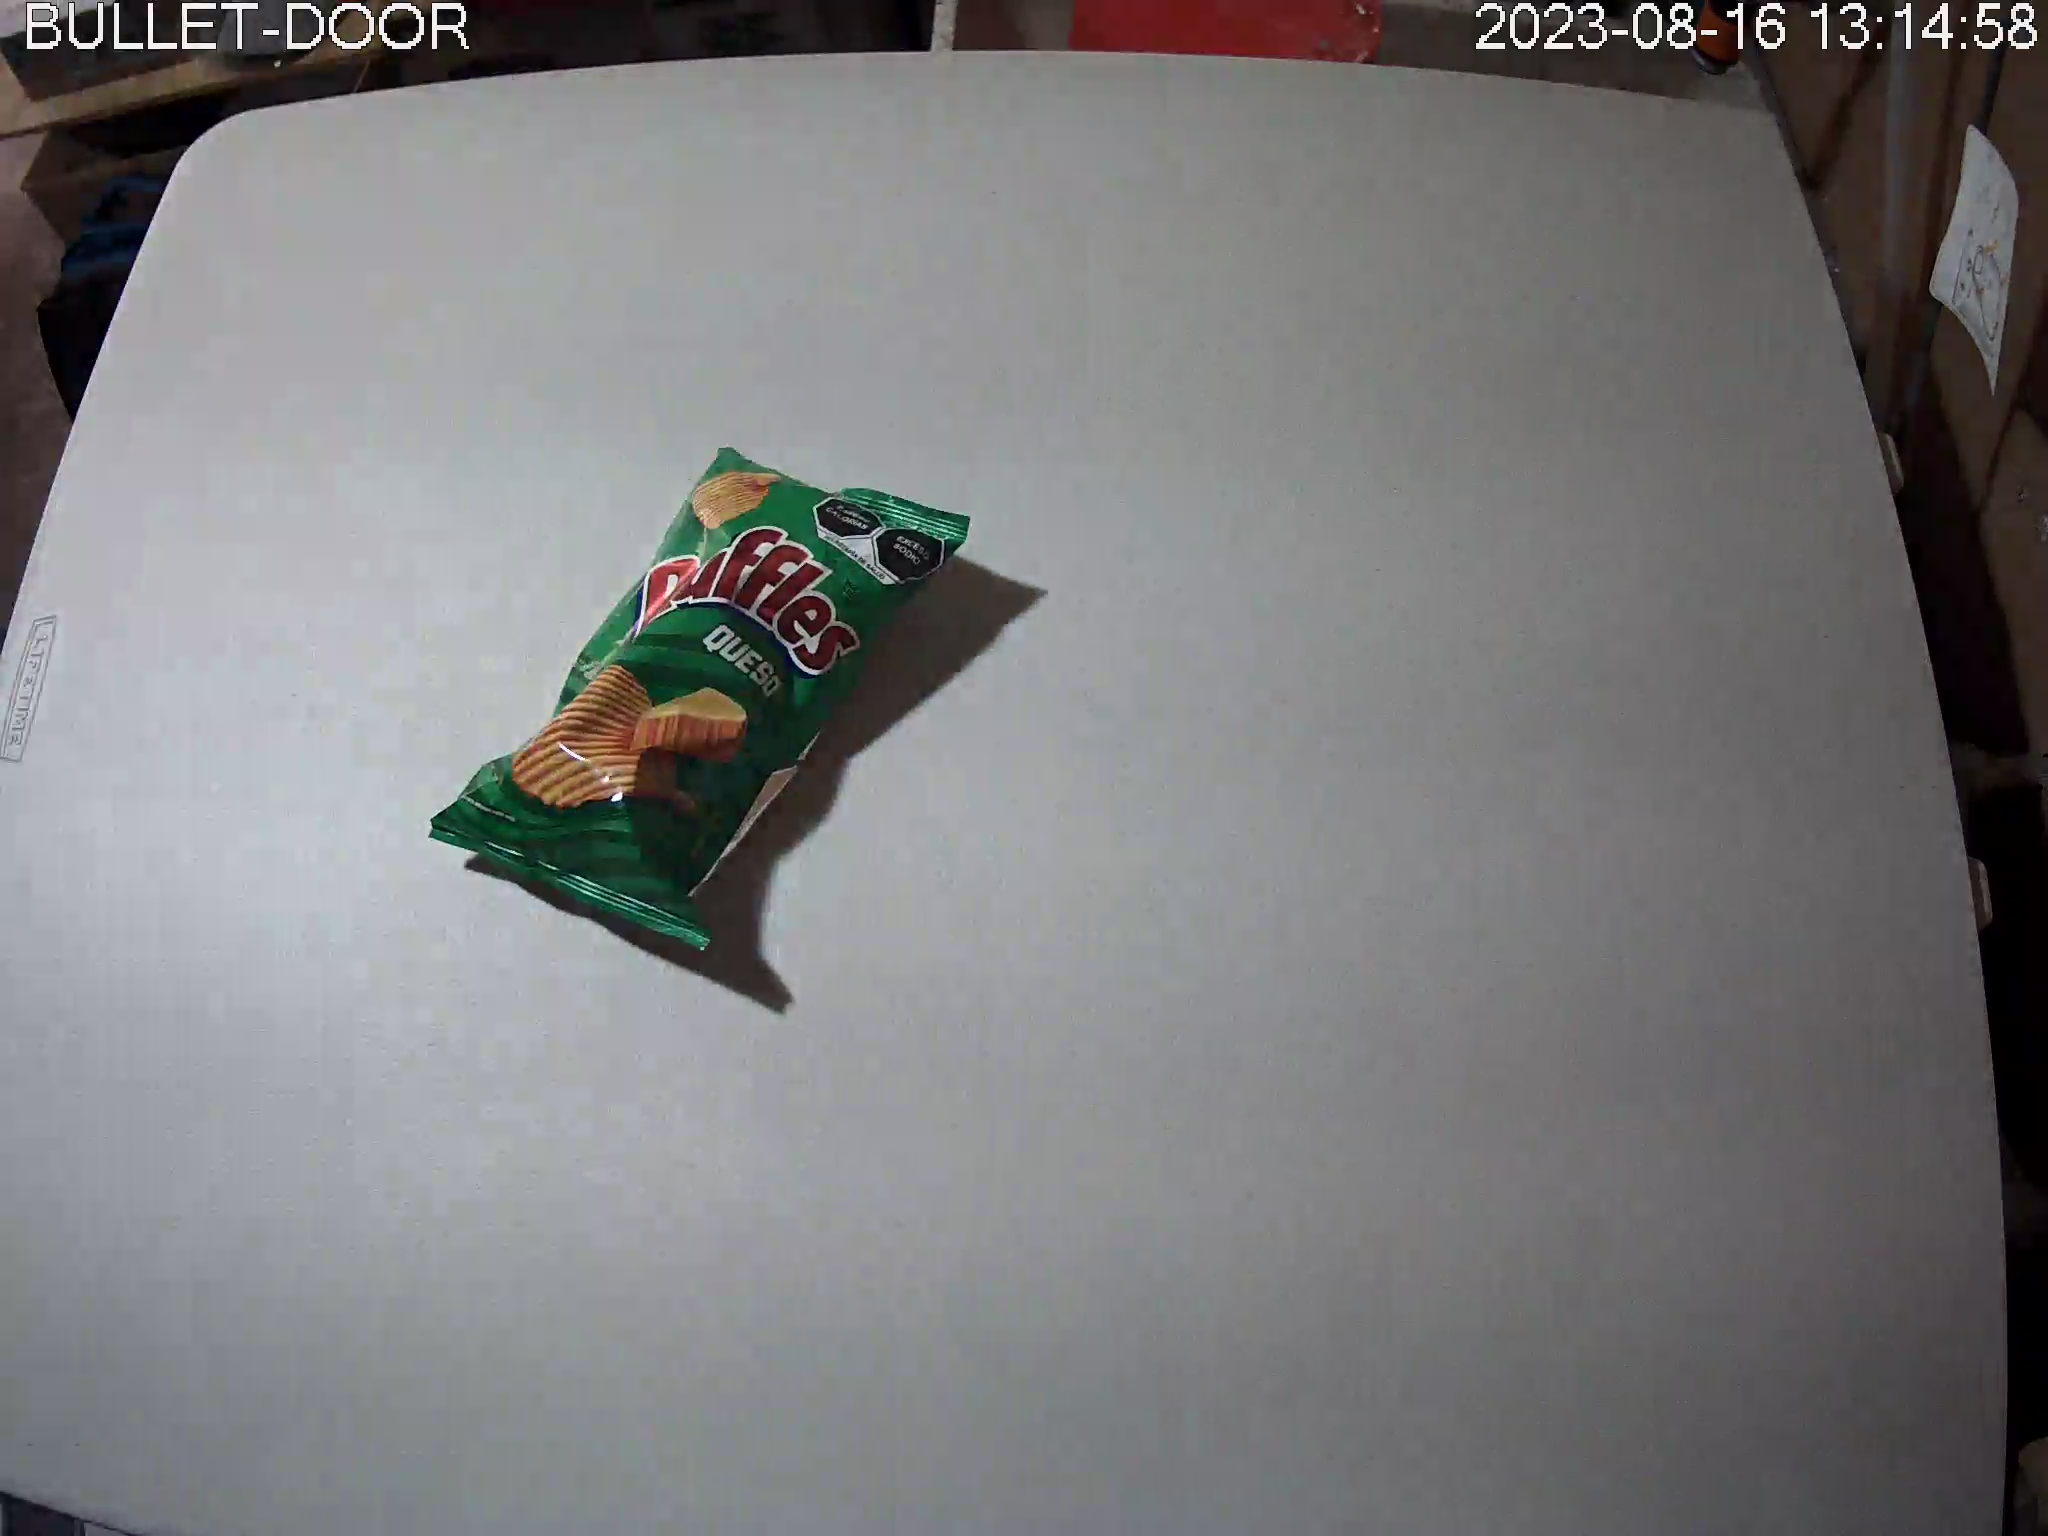RufflesQ_48_F: (427, 447, 971, 955)
